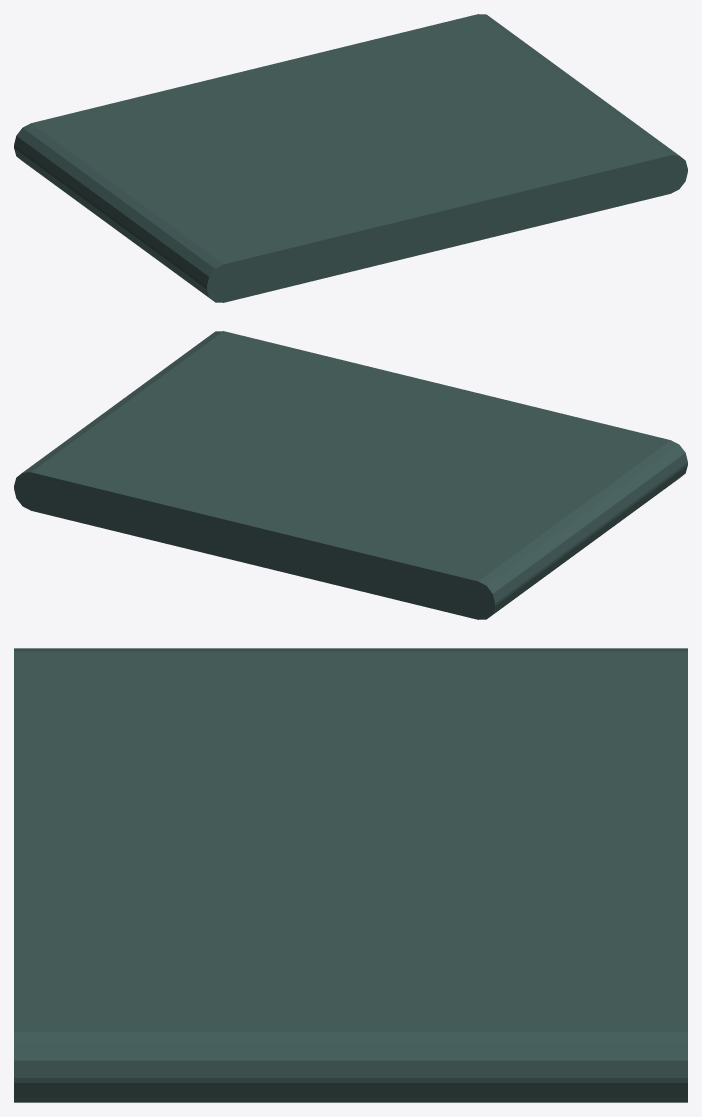
The model's file is Spring_PadOff.gltf.
3 renders of one model, top to bottom at view 1: azimuth 30°, elevation 25°; view 2: azimuth 150°, elevation 25°; view 3: azimuth 270°, elevation 25°, orthographic. The views are drawn at different scales.
Visible parts, largest first — view 1: Spring_PadOff_baked; view 2: Spring_PadOff_baked; view 3: Spring_PadOff_baked.
Boxes of the visible parts, box(x1,y1,x2,y2) form: Spring_PadOff_baked: box(14, 14, 687, 302); Spring_PadOff_baked: box(14, 331, 687, 619); Spring_PadOff_baked: box(14, 648, 687, 1102).
Bounding box in the file's own units: 0.72 × 0.055 × 0.5.
